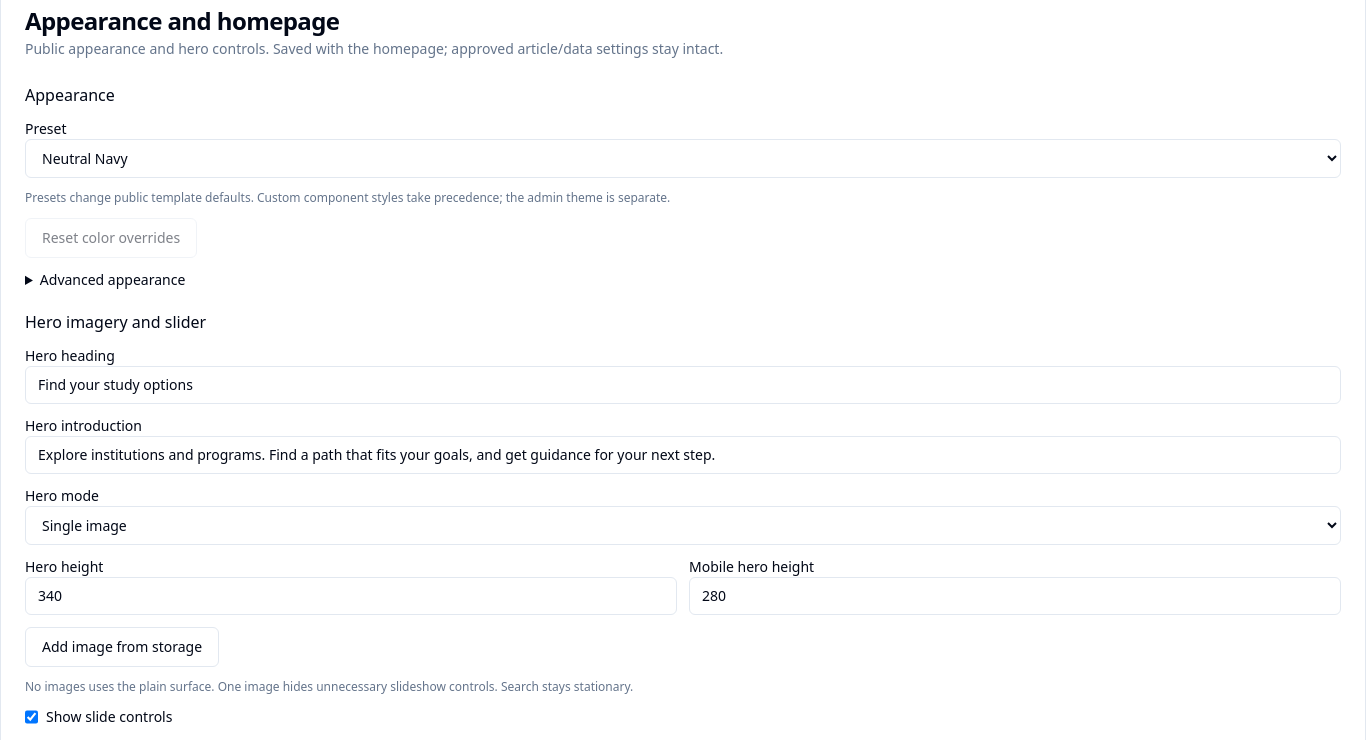
Test: template settings guarded save › uses the existing draft-change API and retains the component tree
Select "Neutral Charcoal" in the dropdown labelled "Preset" at coordinates (683, 158), box [25,139,1341,178]
(page scrolled)
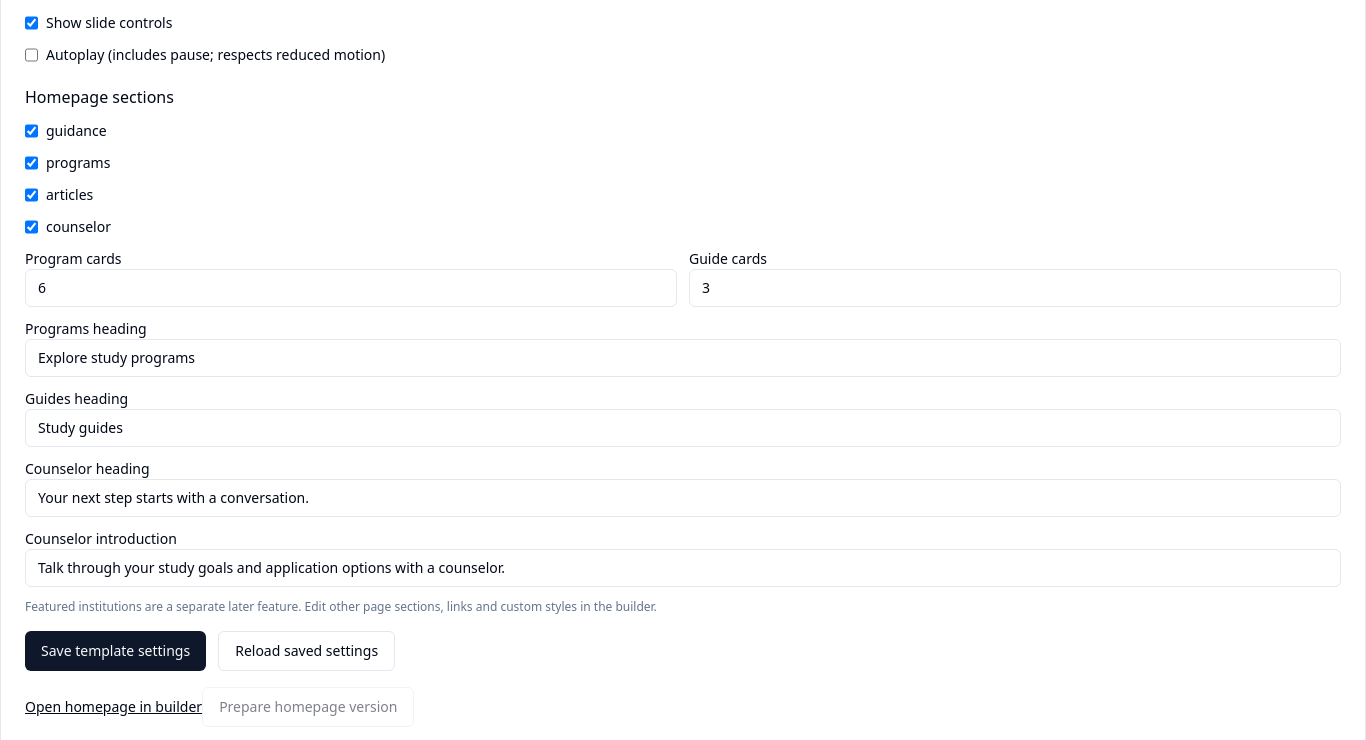
Click the button "Save template settings" at coordinates (116, 651), box [25,631,206,671]
(page scrolled)
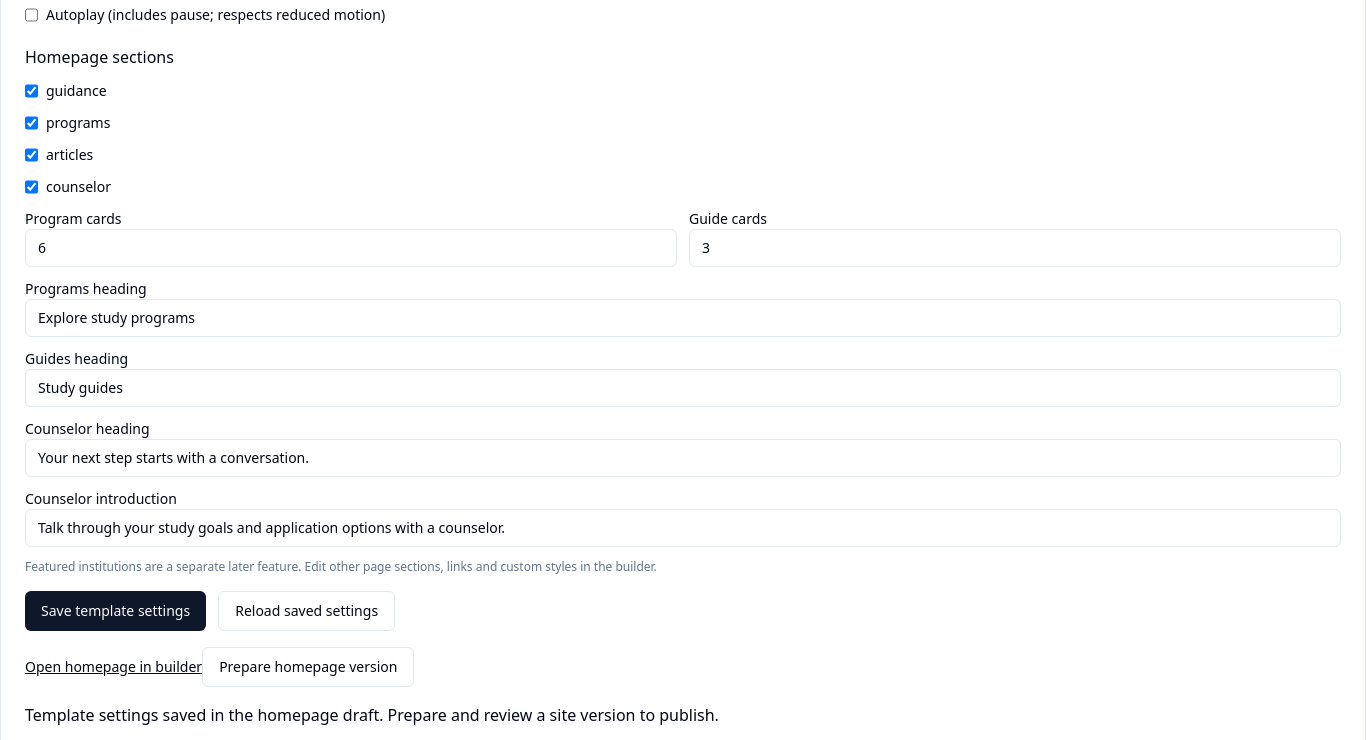
expect the text "Template settings saved in the homepage draft" is shown: met, box [25,704,719,726]
